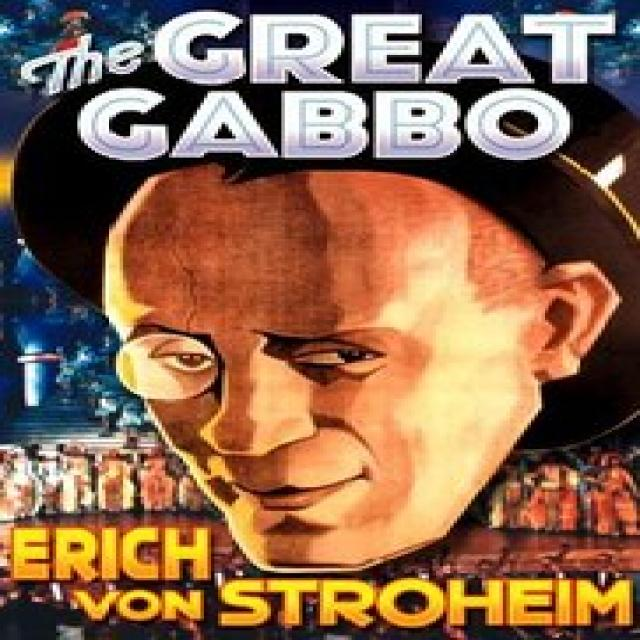movie-judul: (18, 8, 626, 164)
picture: (55, 170, 610, 528)
